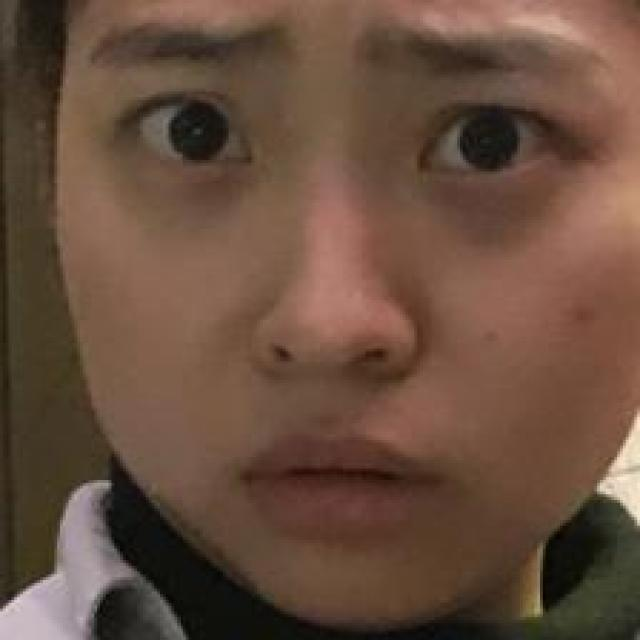fear: (79, 21, 610, 572)
